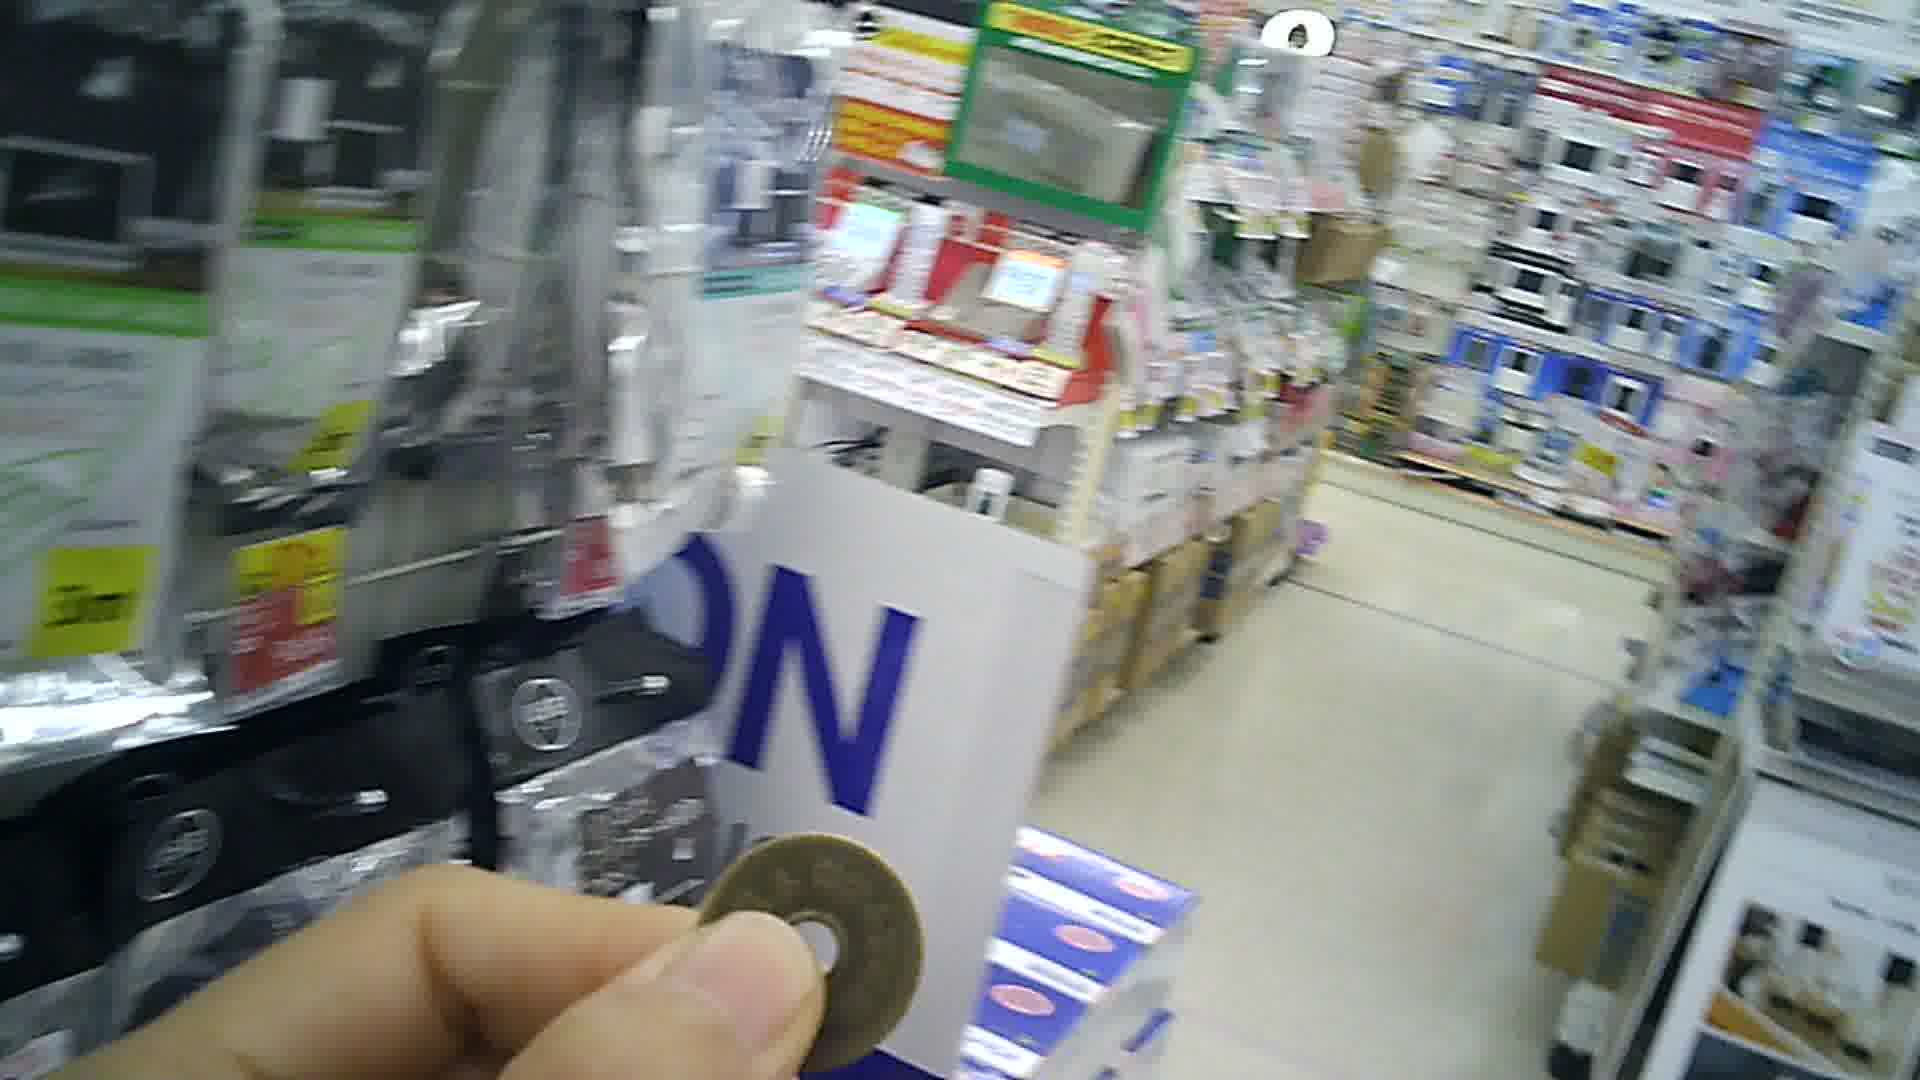5 Yen: (691, 843, 928, 1079)
